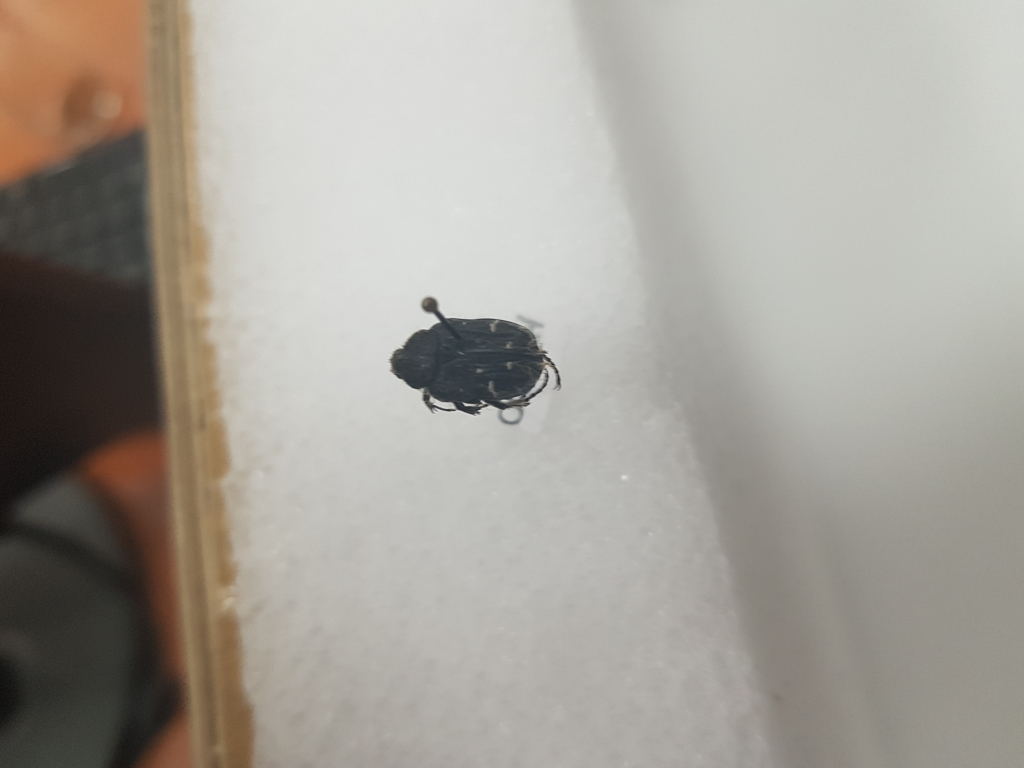Tropinota_senicula: (381, 307, 580, 434)
